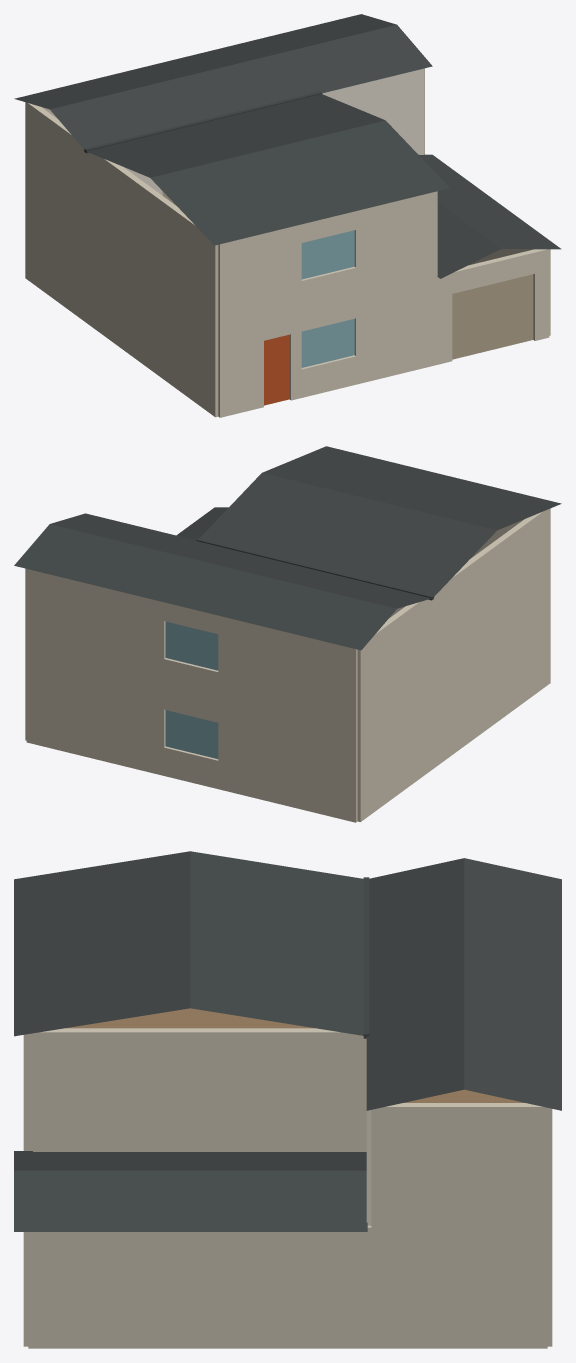
Rendered from estate-motor-home-seed9.glb.
The picture shows the model from 3 angles, top to bottom: view 1: azimuth 30°, elevation 25°; view 2: azimuth 150°, elevation 25°; view 3: azimuth 270°, elevation 25°; orthographic projection. The views are drawn at different scales.
Visible parts, largest first — view 1: Roof_upper_living, Roof_upper_bedroom, Wall_upper_west, Wall_side_west, Wall_front_living_end, Wall_upper_front_pier_-545, Wall_upper_front_end, Roof_garage, Door_garage, Wall_front_living_pier_-545, Wall_upper_partition_bedroom_end, Wall_front_garage_lintel_door_garage (+13 smaller); view 2: Roof_upper_living, Roof_upper_bedroom, Wall_upper_west, Wall_side_west, Wall_rear_pier_-545, Wall_rear_end, Wall_upper_rear_pier_-545, Wall_upper_rear_end, Window_window_bedroom, Window_window_bedroom_upper, Wall_upper_rear_sill_window_bedroom_upper, Wall_rear_sill_window_bedroom (+4 smaller); view 3: Wall_side_east, Roof_upper_living, Roof_upper_bedroom, Wall_upper_living_east, Roof_garage, Wall_upper_east, Floor_living_upper, Wall_upper_front_end, Roof_join_fascia, Floor_bedroom_upper, Wall_rear_end, Wall_upper_rear_end (+2 smaller).
Part boxes in pixels (x1,y1,x2,y2): Roof_upper_living: (87, 94, 449, 245); Roof_upper_bedroom: (14, 14, 432, 149); Wall_upper_west: (25, 102, 218, 328); Wall_side_west: (25, 190, 218, 417); Wall_front_living_end: (354, 276, 437, 384); Wall_upper_front_pier_-545: (218, 224, 301, 329); Wall_upper_front_end: (354, 191, 437, 295); Roof_garage: (418, 154, 561, 278); Door_garage: (452, 274, 533, 359); Wall_front_living_pier_-545: (218, 319, 263, 417); Wall_upper_partition_bedroom_end: (322, 68, 423, 154); Wall_front_garage_lintel_door_garage: (452, 250, 534, 293); Roof_upper_living: (199, 446, 561, 596); Roof_upper_bedroom: (14, 513, 431, 650); Wall_upper_west: (357, 508, 550, 733); Wall_side_west: (357, 595, 550, 821); Wall_rear_pier_-545: (218, 701, 357, 822); Wall_rear_end: (26, 654, 165, 775); Wall_upper_rear_pier_-545: (218, 615, 357, 734); Wall_upper_rear_end: (26, 569, 165, 687); Window_window_bedroom: (165, 710, 218, 758); Window_window_bedroom_upper: (165, 621, 218, 670); Wall_upper_rear_sill_window_bedroom_upper: (164, 658, 218, 700); Wall_rear_sill_window_bedroom: (164, 746, 218, 788); Wall_side_east: (28, 1225, 547, 1348); Roof_upper_living: (14, 851, 363, 1036); Roof_upper_bedroom: (366, 858, 561, 1110); Wall_upper_living_east: (33, 1028, 366, 1151); Roof_garage: (14, 1151, 367, 1231); Wall_upper_east: (371, 1103, 547, 1227); Floor_living_upper: (66, 1008, 314, 1028); Wall_upper_front_end: (23, 1033, 32, 1150); Roof_join_fascia: (363, 877, 369, 1038); Floor_bedroom_upper: (404, 1089, 524, 1102); Wall_rear_end: (547, 1225, 552, 1346); Wall_upper_rear_end: (547, 1108, 552, 1225).
Bounding box in the file's own units: 11.5 × 6.25 × 11.5.
